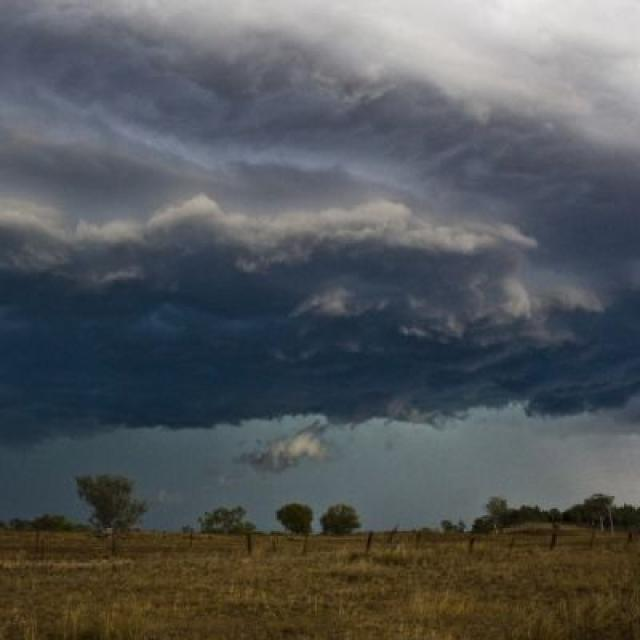Cb: (1, 31, 640, 458)
